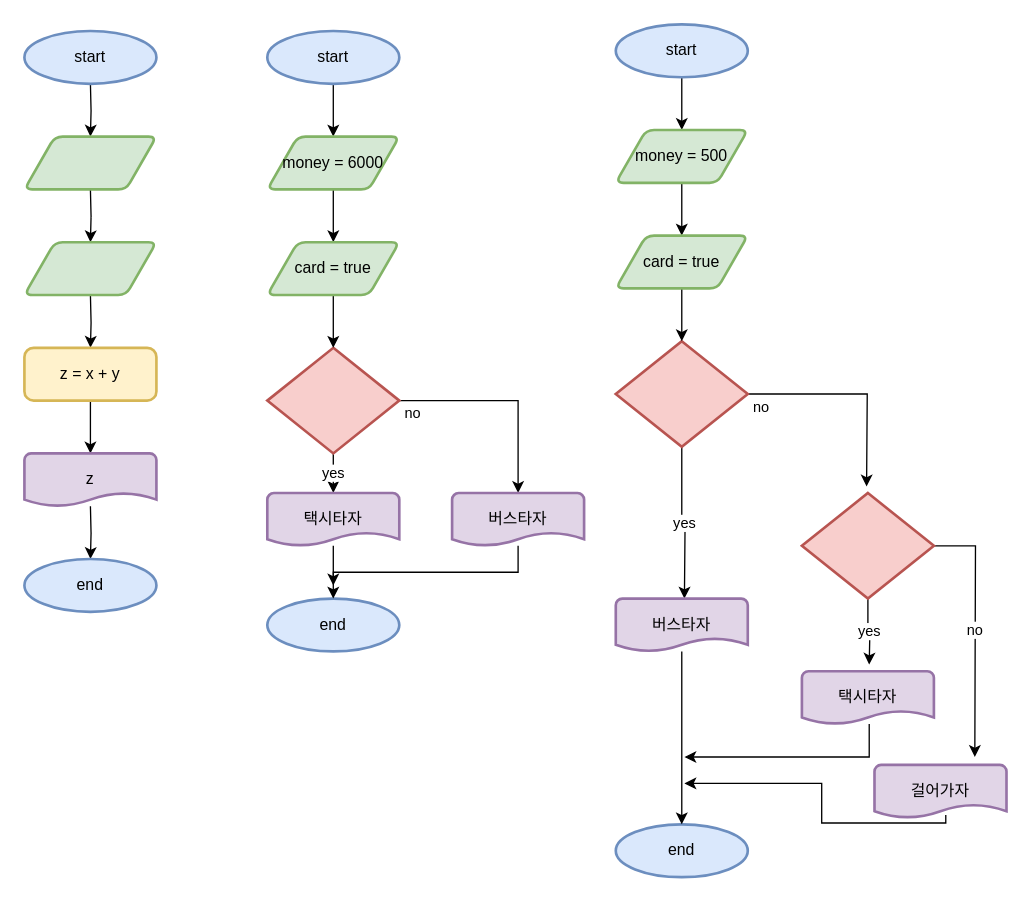
Image size: 1030x900. Some labels were removed from this diagram. Each missing label, with the centre of its shape:
"money >= 1000" belongs at [681,393].
"money >= 5000" belongs at [867,545].
"money >= 5000 || card true" belongs at [332,400].
"x = 5" belongs at [89,162].
"y = 10" belongs at [89,268].
